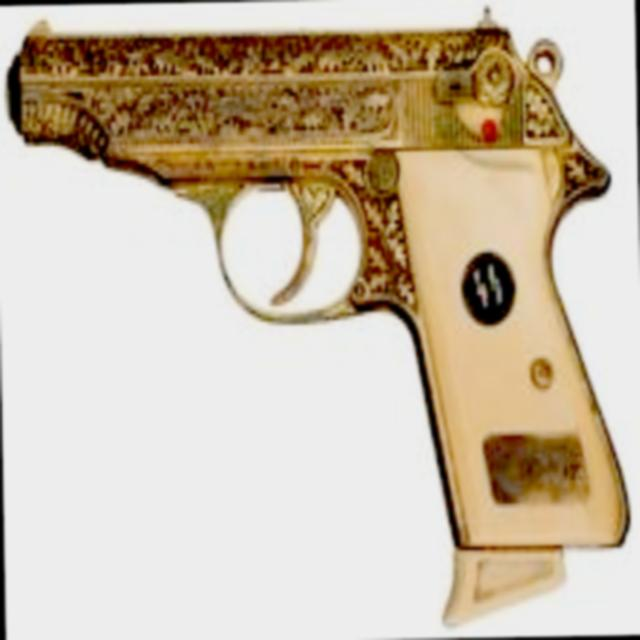semi automatic: (4, 2, 626, 636)
